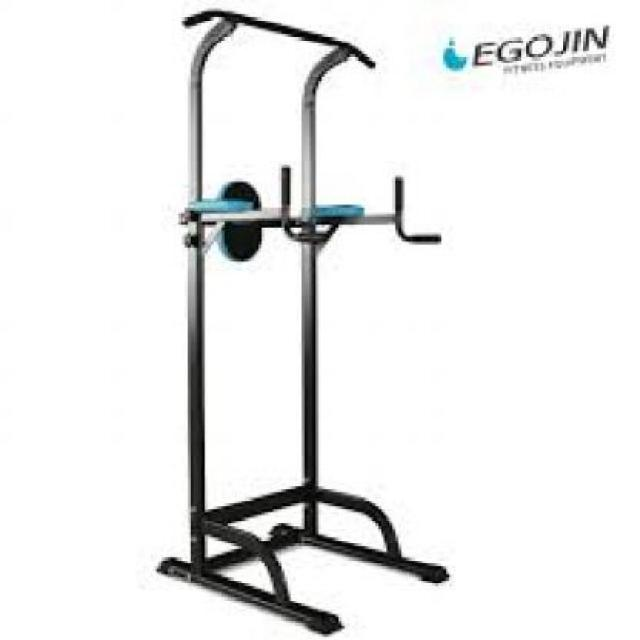chinning dipping: (158, 6, 452, 634)
